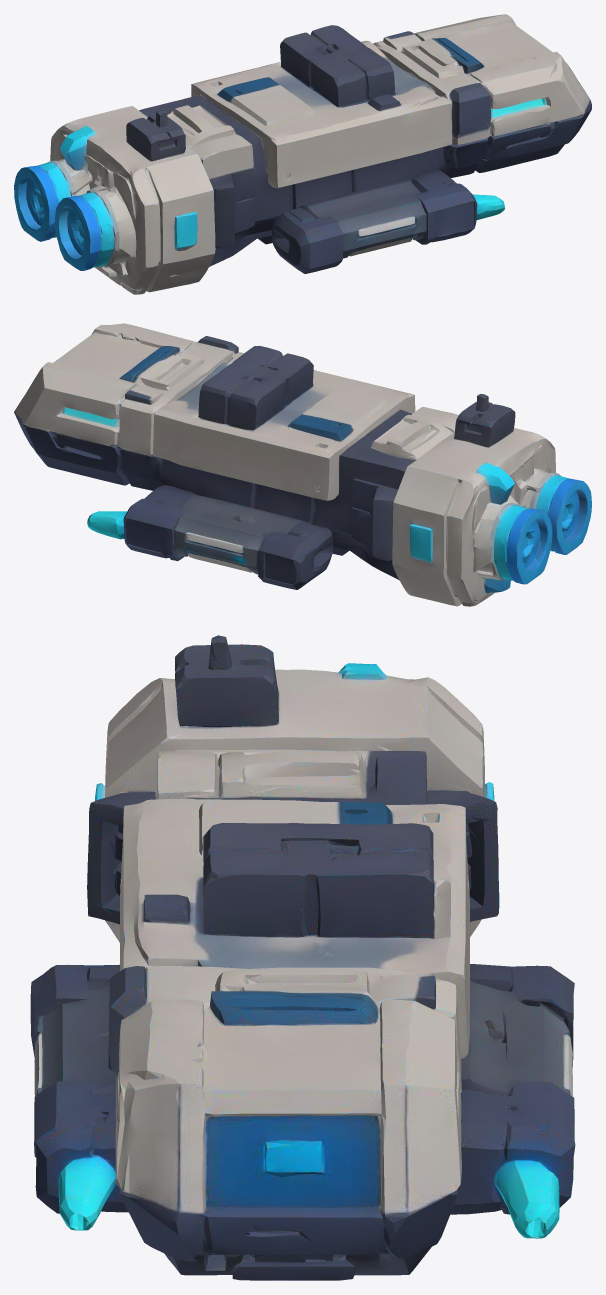
3 renders of one model, top to bottom at view 1: azimuth 30°, elevation 25°; view 2: azimuth 150°, elevation 25°; view 3: azimuth 270°, elevation 25°, orthographic. The views are drawn at different scales.
Parts seen in each view (by area): view 1: Mesh; view 2: Mesh; view 3: Mesh.
Part boxes in pixels (x1,y1,x2,y2): Mesh: (14,14,591,294); Mesh: (14,323,591,606); Mesh: (30,635,575,1280).
Size of the model in its own units: 1.89 by 0.602 by 0.8706.
1 material, 1 textured.
